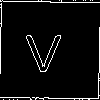V: (24, 25, 62, 73)
